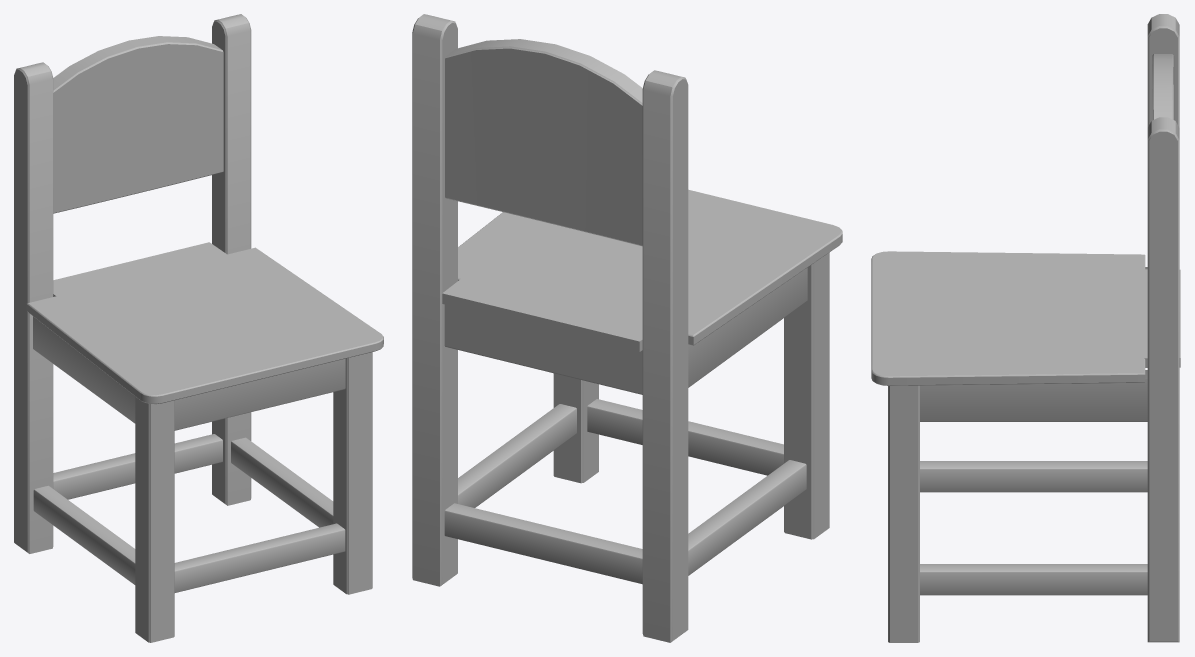
Rendered from kidschair.glb.
The picture shows the model from 3 angles, left to right: view 1: azimuth 30°, elevation 25°; view 2: azimuth 150°, elevation 25°; view 3: azimuth 270°, elevation 25°; orthographic projection. The views are drawn at different scales.
Visible parts, largest first — view 1: KidsChair; view 2: KidsChair; view 3: KidsChair.
Boxes of the visible parts, bbox=[...] form: KidsChair: bbox=[14, 14, 383, 642]; KidsChair: bbox=[412, 14, 842, 642]; KidsChair: bbox=[871, 14, 1180, 642].
Size of the model in its own units: 279 by 530 by 290.
Materials: 1 (1 with a texture image).
